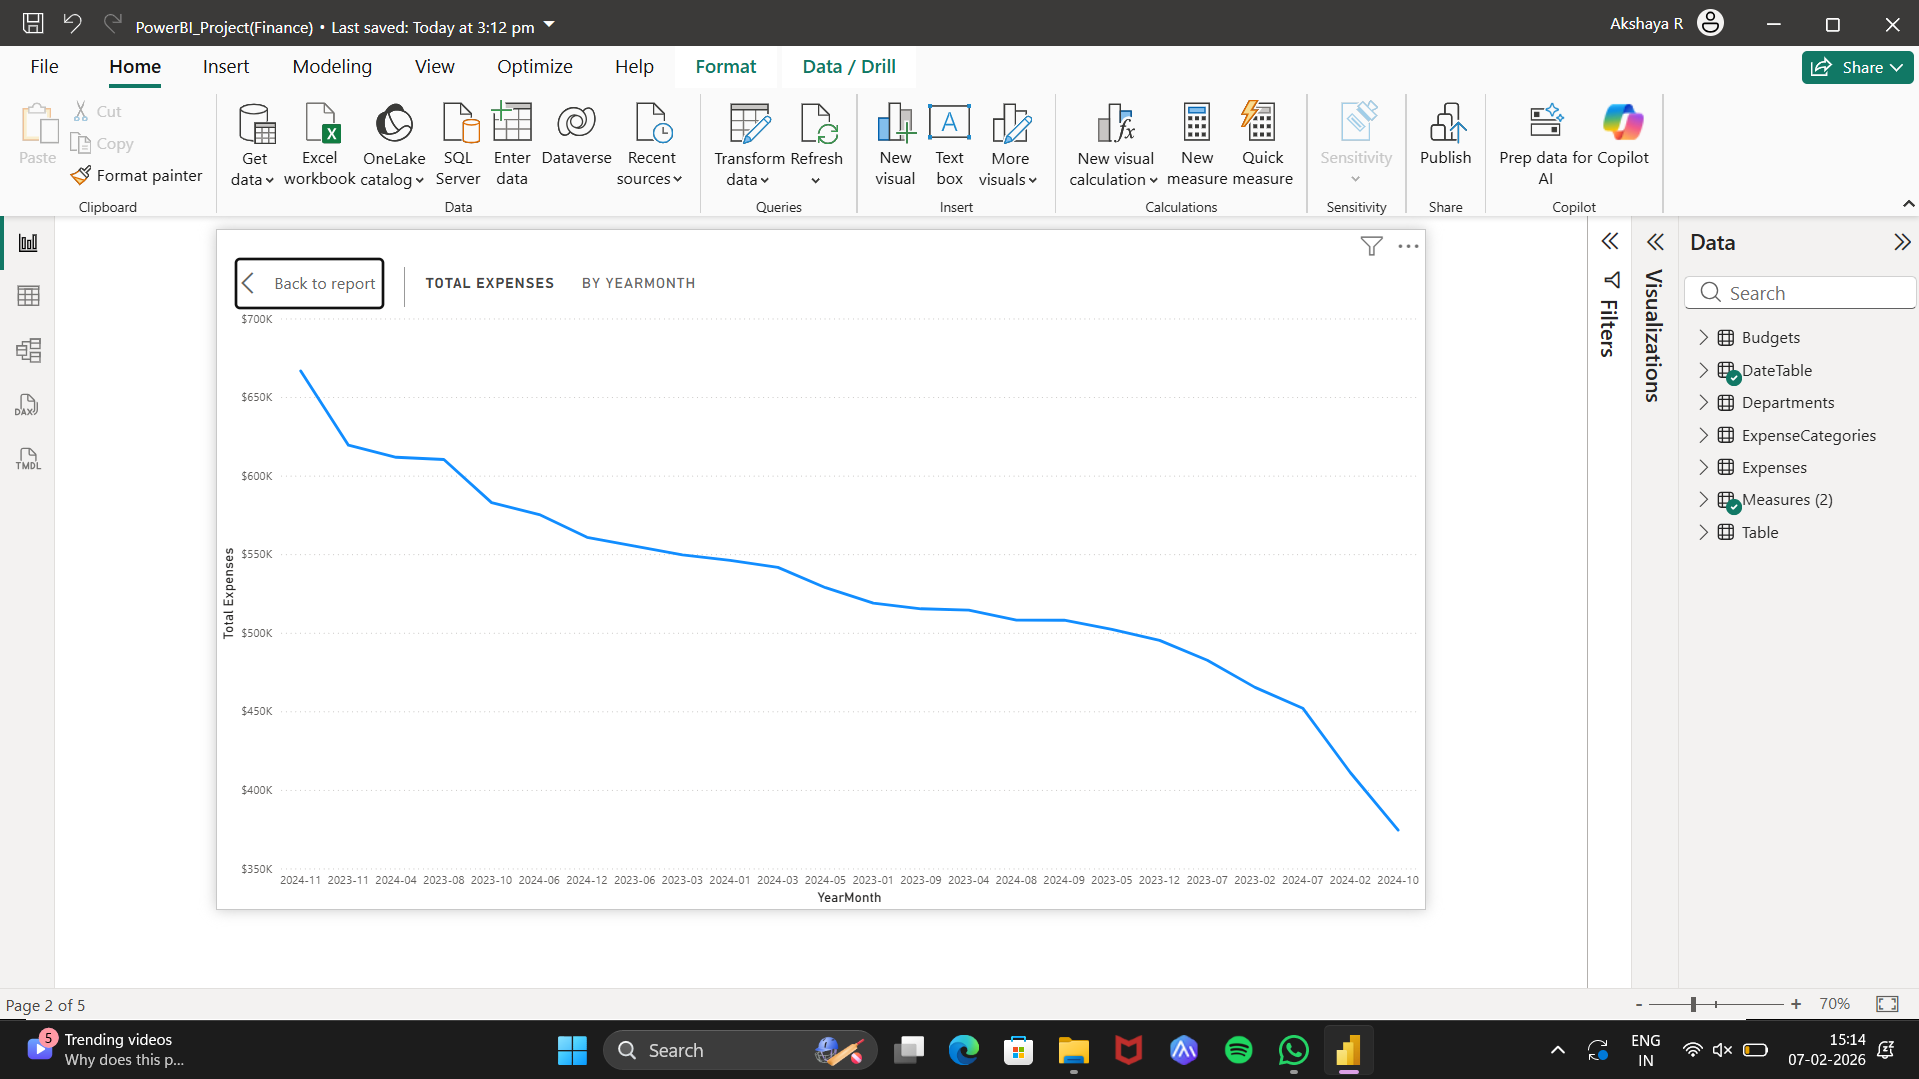

Layout of this report page (visuals, bound fields, positions):
{"tool":"powerbi","page":{"name":"Page 2","canvas":[1280,720],"ordinal":1},"visuals":[{"type":"lineChart","fields":{"Category":["DateTable.YearMonth"],"Y":["Measures (2).Total Expenses"]},"box":[142.8,168,858.4,383],"z":0}]}

Visuals, with their boxes on the page's 1280x720 design canvas (x1, y1, x2, y2). These are canvas units, not pixel positions in the 1919x1079 screenshot, which may show the page scaled, cropped or inside an application window:
lineChart - DateTable.YearMonth x Measures (2).Total Expenses: l=143, t=168, r=1001, b=551
